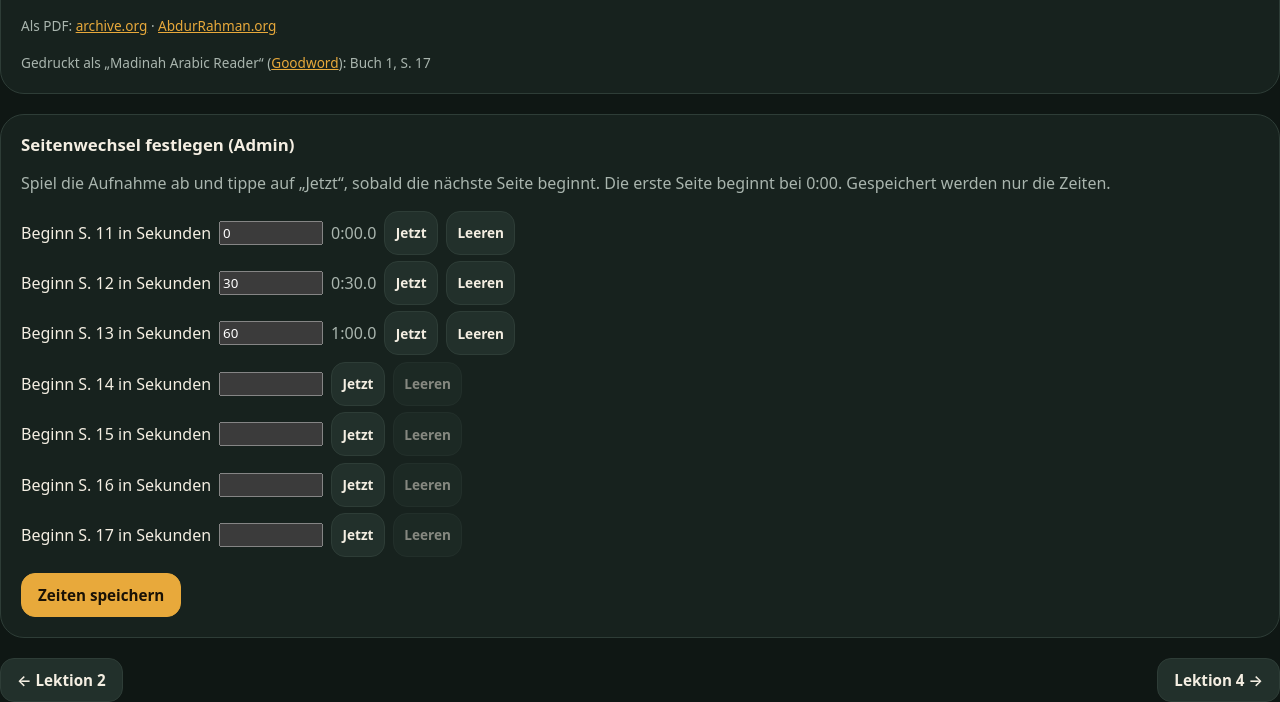
Medina book follows the recording › refuses a time that is not a number of seconds
(page scrolled)
In the number field labelled "Beginn S. 14 in Sekunden": (271, 384) [219, 372, 323, 396], type "-5"
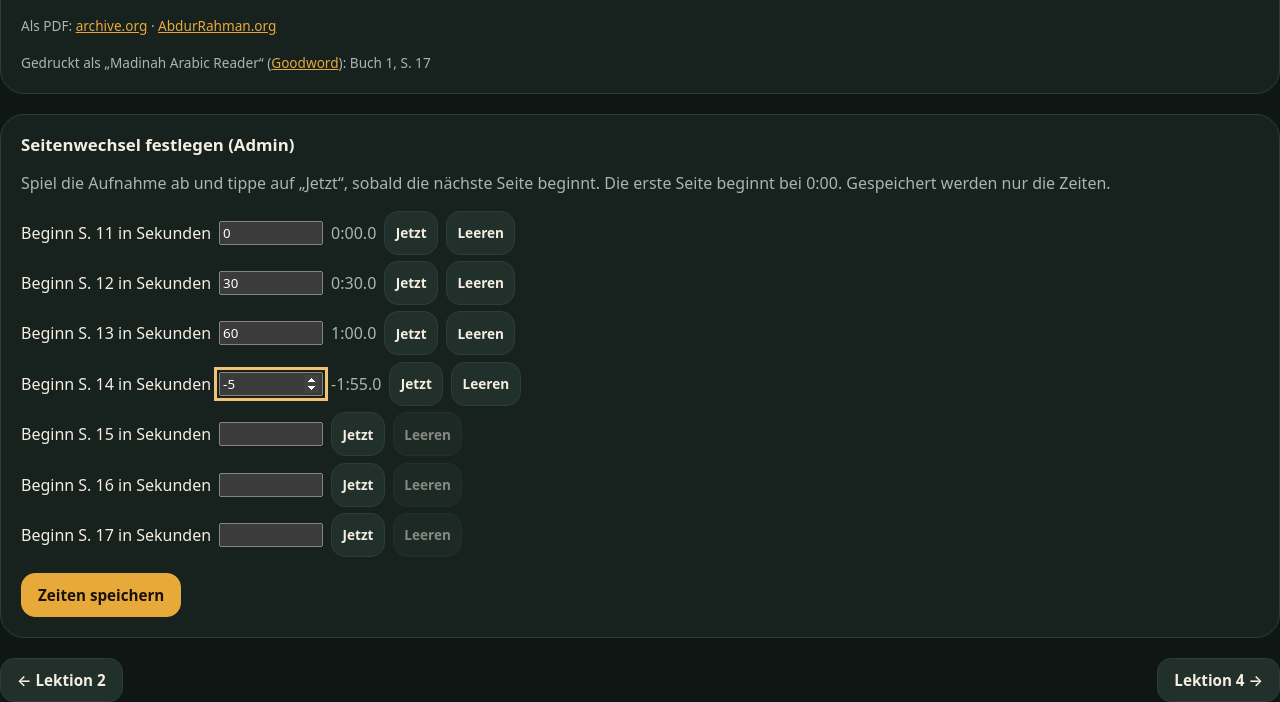
Click the button "Zeiten speichern": (101, 595) [21, 573, 181, 617]
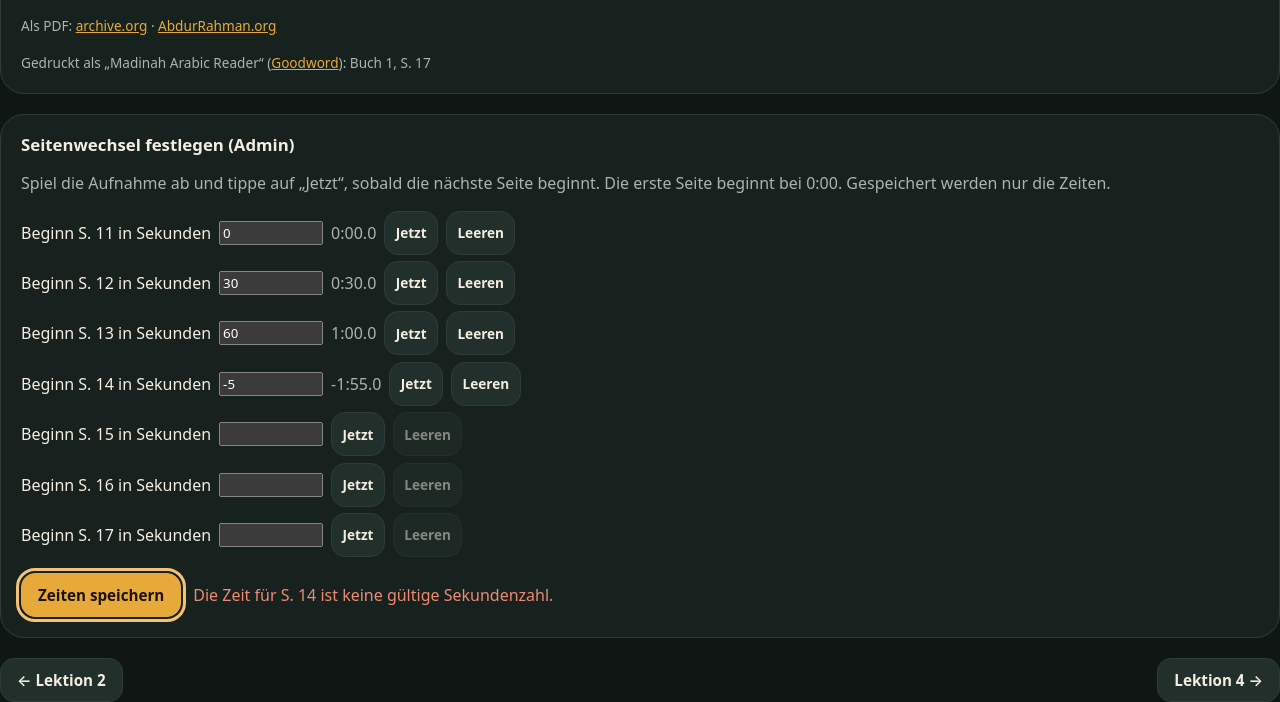
Expected: the text "Die Zeit für S. 14 ist keine gültige Sekundenzahl." is shown, [193, 583, 553, 607]
